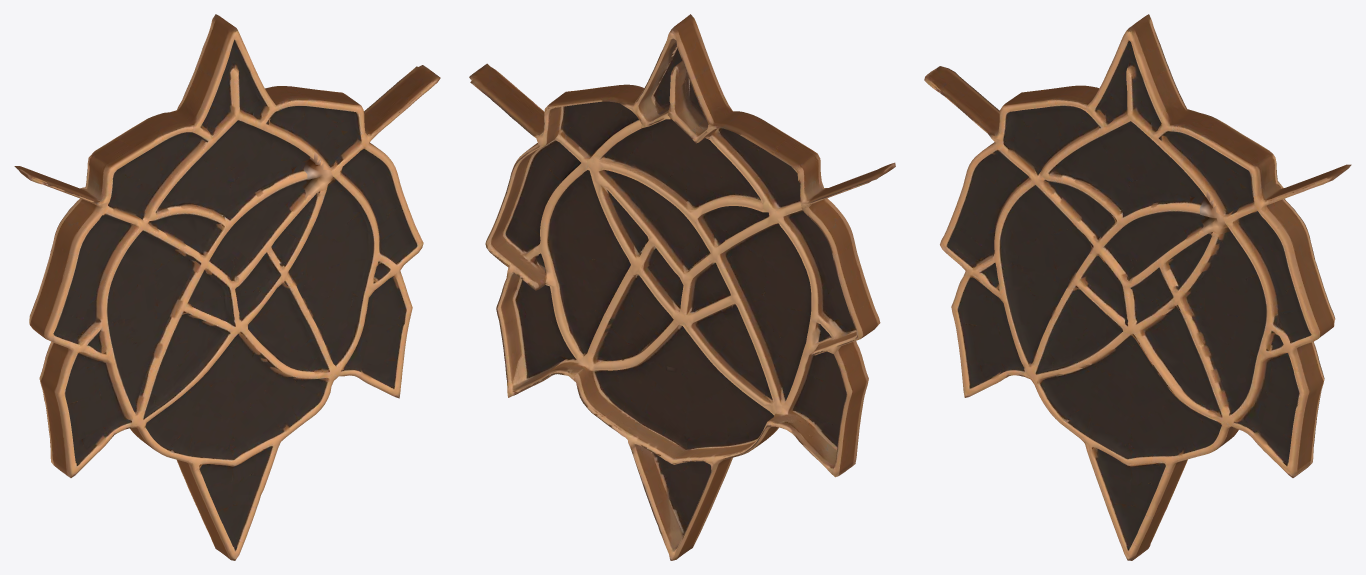
Rendered from sigil-foil-hero.glb.
The picture shows the model from 3 angles, left to right: view 1: azimuth 30°, elevation 25°; view 2: azimuth 150°, elevation 25°; view 3: azimuth 330°, elevation 25°; orthographic projection.
Size of the model in its own units: 1.61 by 2 by 0.1429.
1 material, 1 textured.
